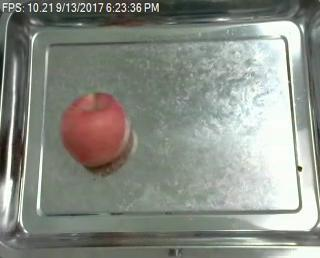apple: (60, 93, 131, 167)
